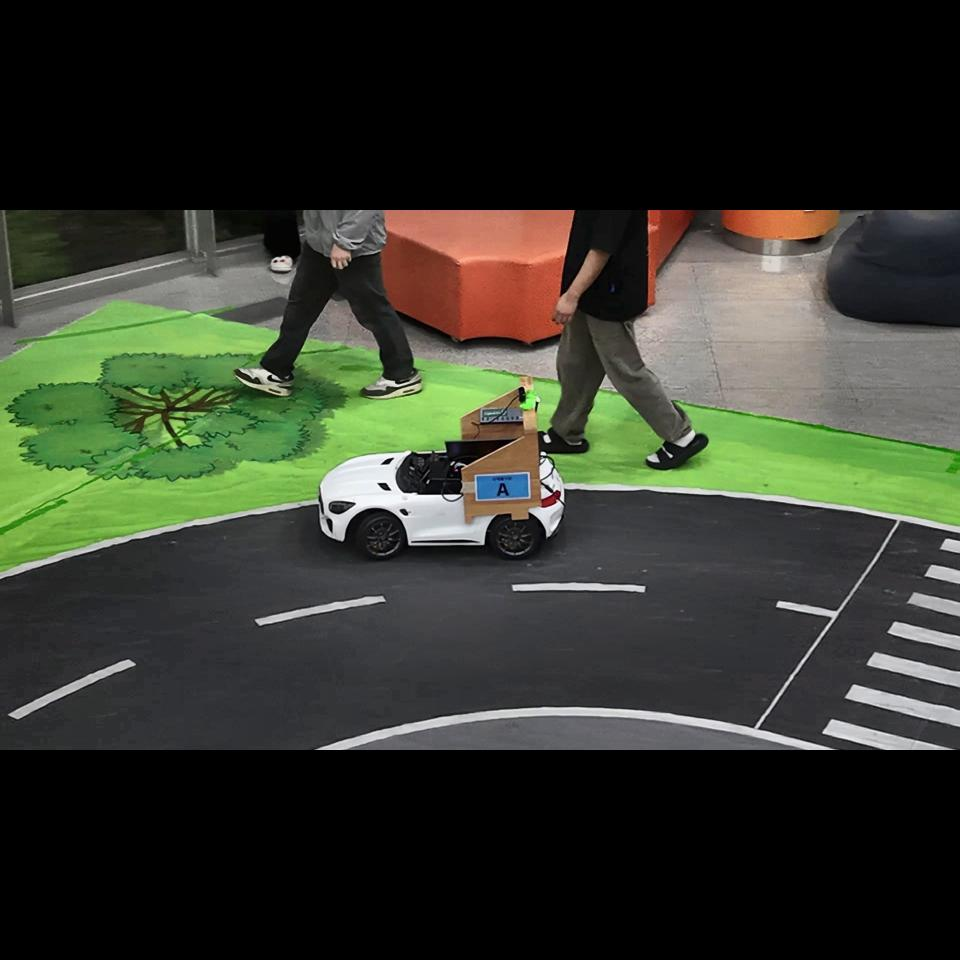broken_line: (8, 659, 136, 719), (254, 595, 387, 626), (511, 582, 646, 593), (776, 601, 836, 618)
crosswalk: (822, 538, 960, 750)
